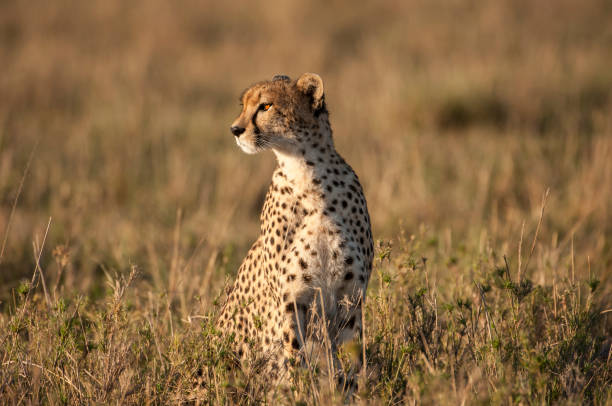cheetah: (224, 63, 339, 169)
